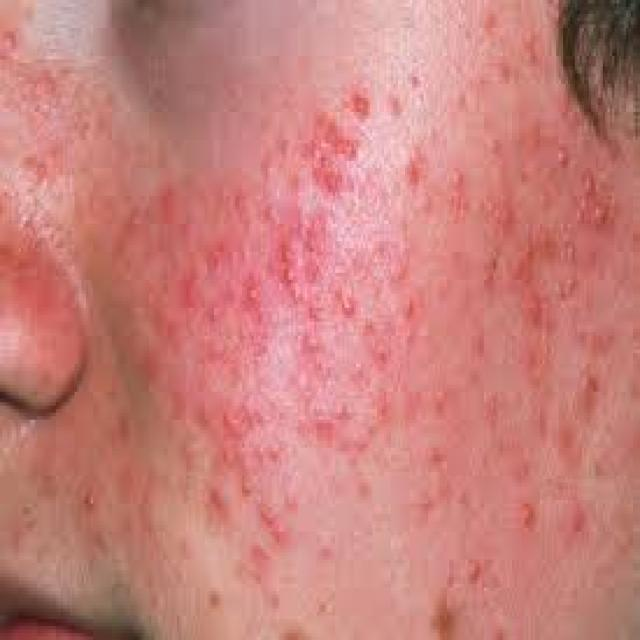Acne: (303, 116, 358, 196), (302, 202, 336, 290), (217, 405, 259, 476), (572, 165, 614, 235), (271, 232, 300, 296), (446, 164, 472, 228), (331, 282, 366, 328), (312, 398, 352, 438), (258, 503, 288, 547), (341, 81, 372, 123), (525, 222, 559, 260), (178, 263, 203, 314), (240, 268, 266, 315), (514, 490, 540, 536), (202, 241, 230, 283), (462, 548, 486, 592), (400, 152, 426, 192), (522, 288, 548, 328), (370, 332, 393, 376), (576, 365, 604, 401), (396, 287, 420, 327), (297, 323, 325, 357), (78, 484, 100, 515)
